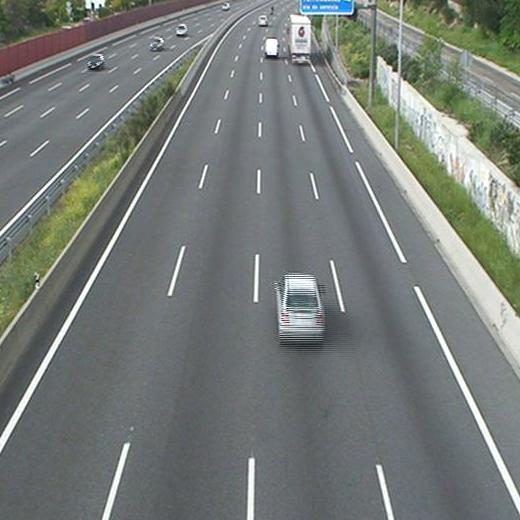car: (276, 274, 325, 340), (257, 15, 269, 27)
motorcycle: (269, 3, 276, 16)
truck: (289, 15, 311, 62)
van: (266, 38, 279, 57)
